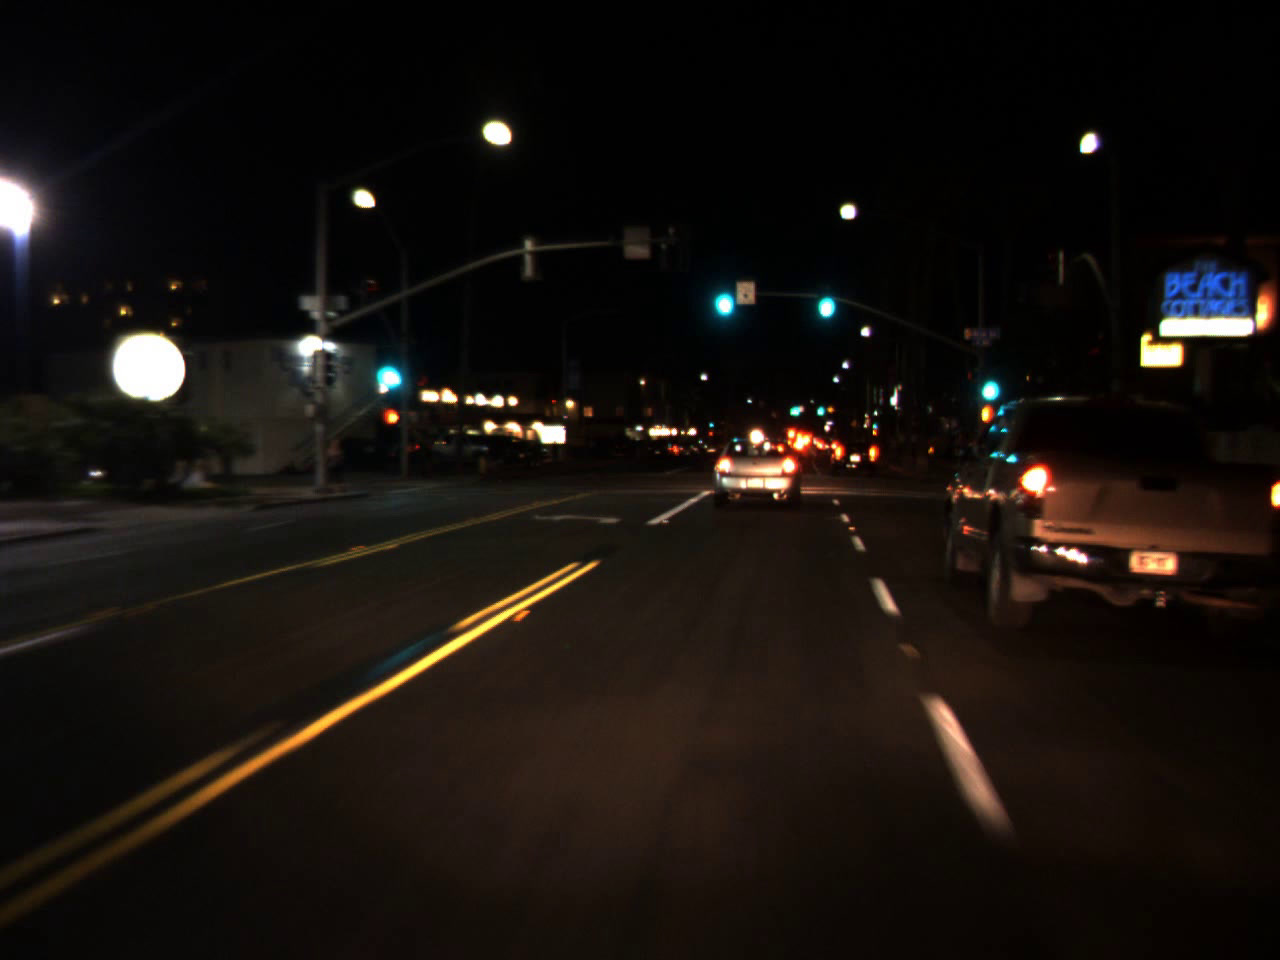go: (366, 335, 407, 398), (707, 262, 737, 325), (977, 355, 1002, 409), (811, 275, 838, 320), (787, 396, 801, 419), (815, 397, 825, 418)
